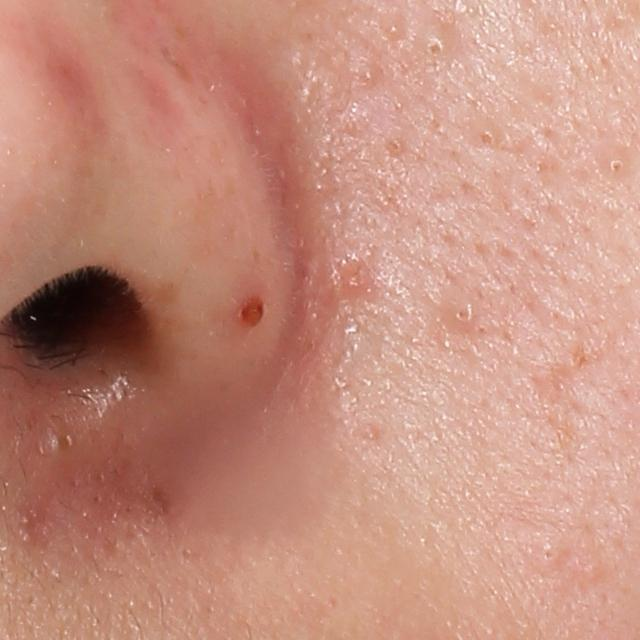comedo: (445, 295, 484, 335), (418, 29, 452, 62), (601, 150, 636, 181), (535, 538, 568, 570), (48, 426, 80, 456), (470, 124, 503, 153), (381, 11, 410, 42), (357, 60, 383, 87)
